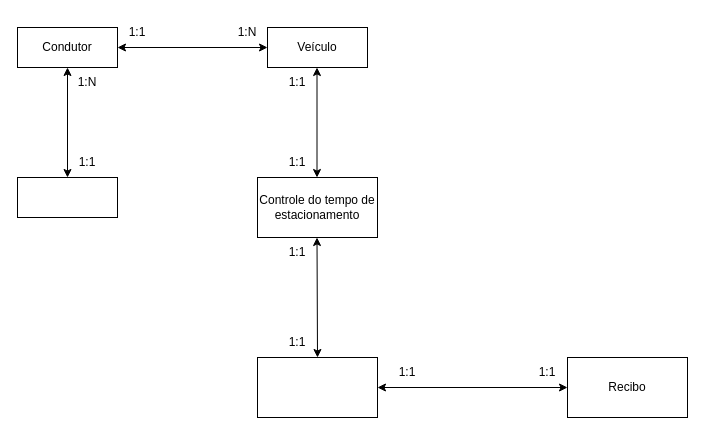
Some shapes in this 705 by 435 pixel diagram are drawn without their labels. Each missing label, with the centre of its shape:
Cobrança: point (317, 387)
Forma de Pagamento: point (67, 197)
